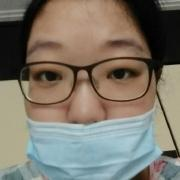WRONG: (22, 41, 160, 179)
